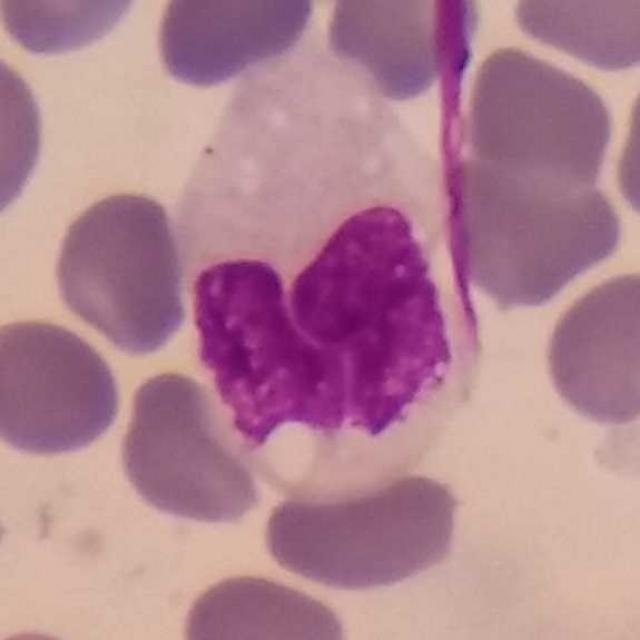Monocyte: (182, 44, 485, 518)
RBC: (434, 120, 628, 312), (258, 463, 468, 597), (113, 364, 270, 533), (46, 182, 192, 358), (457, 40, 619, 190), (0, 312, 127, 462), (318, 0, 486, 105), (536, 264, 640, 430), (147, 0, 325, 91), (175, 566, 358, 640), (0, 37, 55, 235), (502, 0, 640, 75), (0, 0, 157, 62)
